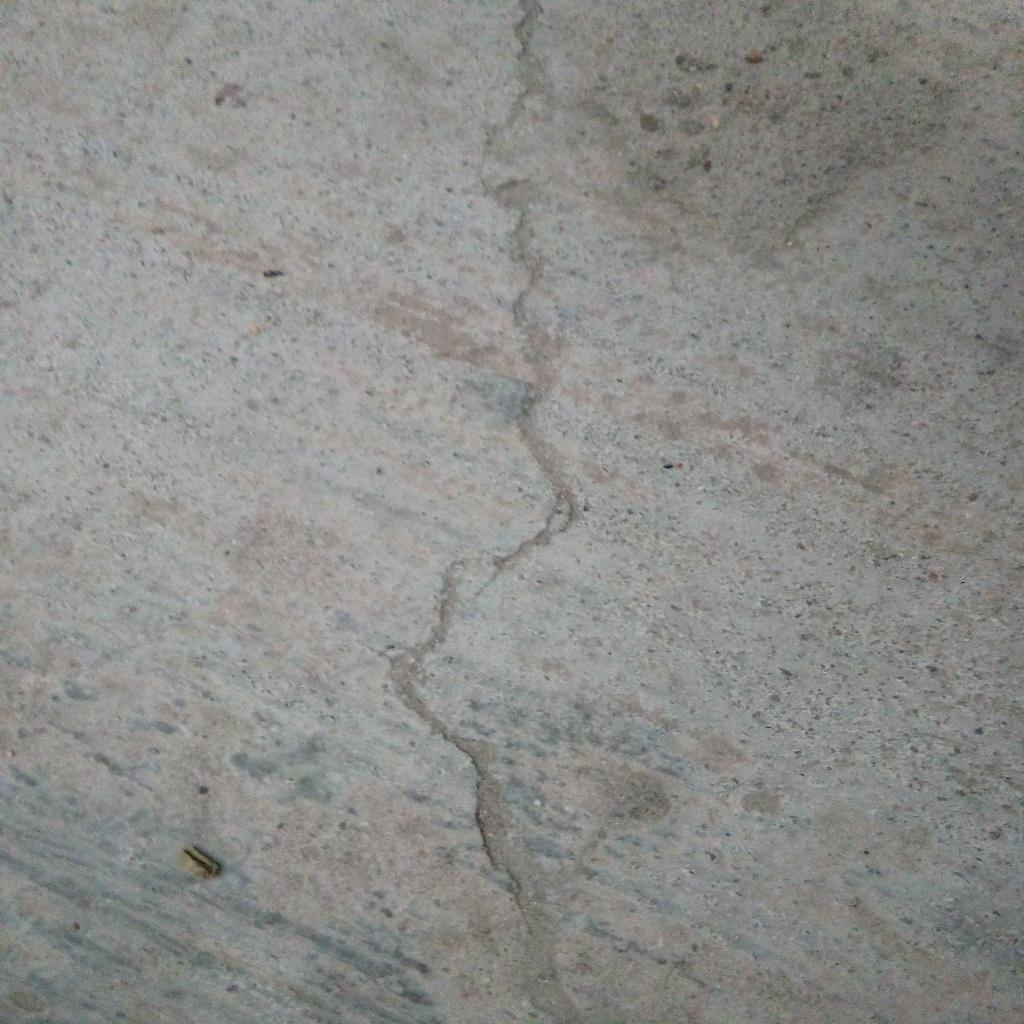Crack: (386, 1, 583, 1024)
